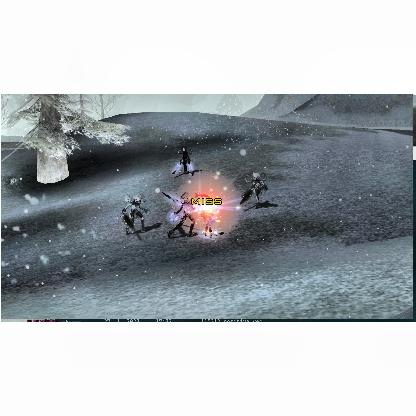caliana: (162, 190, 194, 238), (118, 195, 147, 237), (238, 173, 266, 208), (172, 148, 192, 176)
